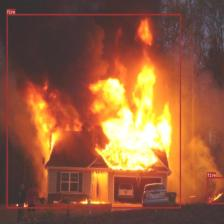fire: (6, 14, 181, 208), (207, 177, 224, 204)
